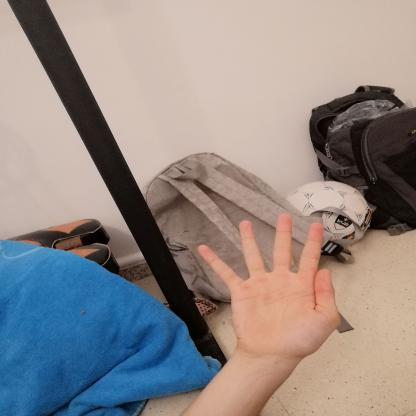SHEEN: (183, 204, 349, 366)
